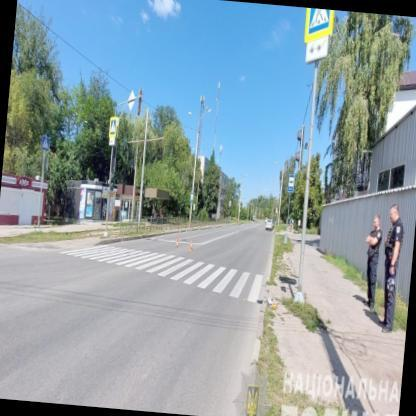obstructed_road_sign: (305, 8, 332, 43)
road_sign: (305, 36, 329, 63), (109, 117, 119, 138), (287, 175, 294, 192)
